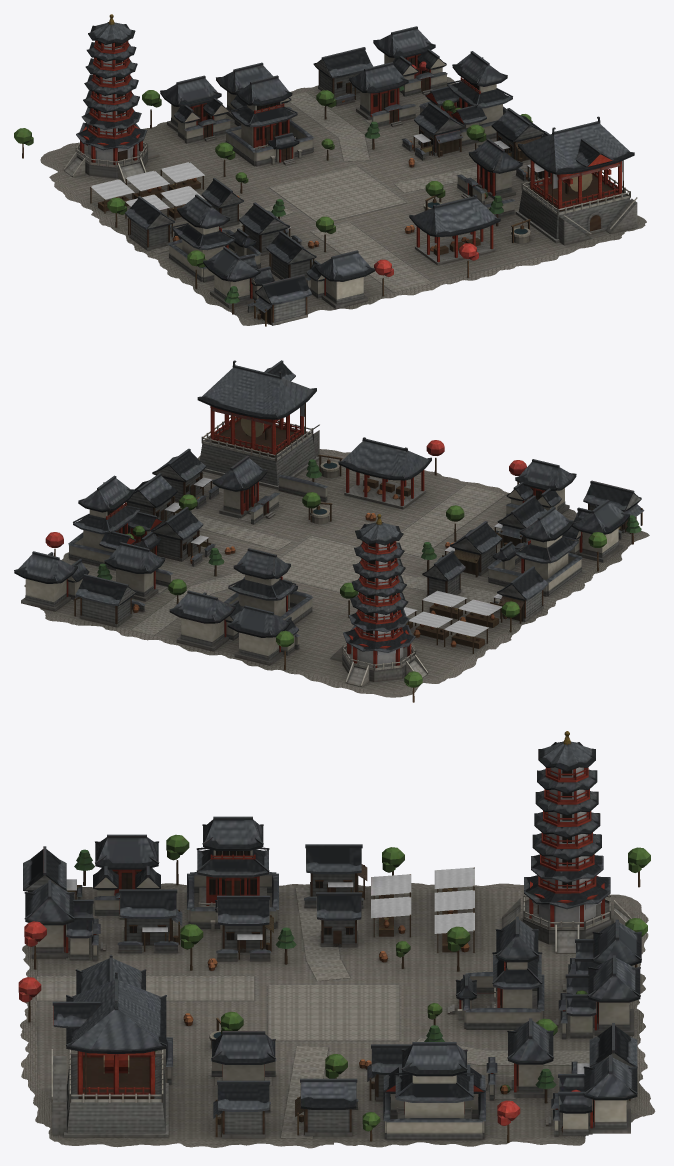
The model's file is kingdoms-town-medium-b-sinic.glb.
3 renders of one model, top to bottom at view 1: azimuth 30°, elevation 25°; view 2: azimuth 150°, elevation 25°; view 3: azimuth 270°, elevation 25°, orthographic. The views are drawn at different scales.
Parts seen in each view (by area): view 1: LOD0; view 2: LOD0; view 3: LOD0.
Part boxes in pixels (box(x1,y1,x2,y2)): LOD0: box(14, 14, 646, 326); LOD0: box(14, 360, 649, 702); LOD0: box(18, 731, 655, 1148).
Size of what is drawn, in the model's own units: 6.04 by 2.05 by 6.09.
Materials: 3 (3 with a texture image).
